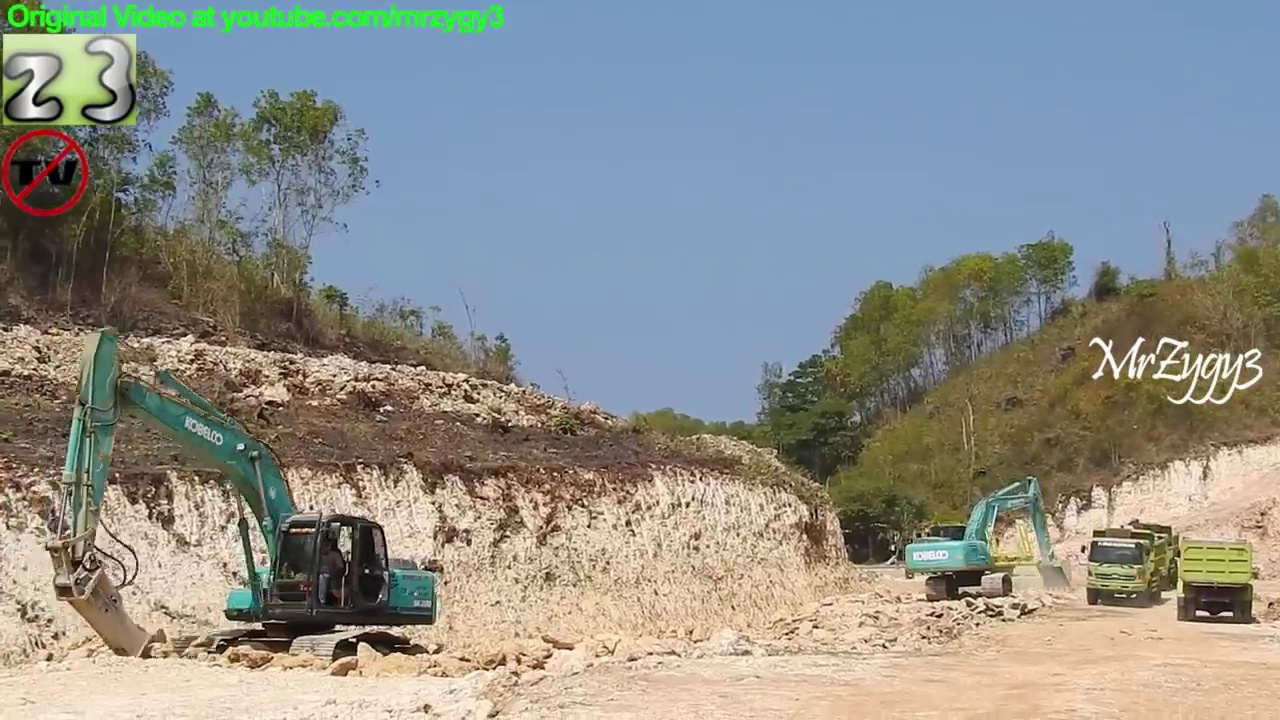excavator: (903, 471, 1077, 606)
excavator breaker: (40, 323, 441, 674)
truck: (1174, 531, 1262, 626), (1079, 526, 1168, 609), (1093, 517, 1181, 599)
